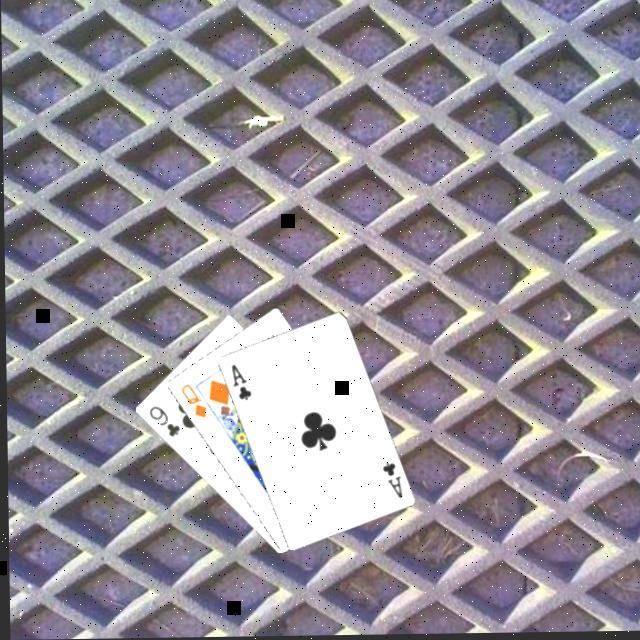9C: (142, 404, 180, 442)
AC: (224, 363, 250, 405), (375, 462, 401, 504)
QD: (173, 383, 206, 423)
